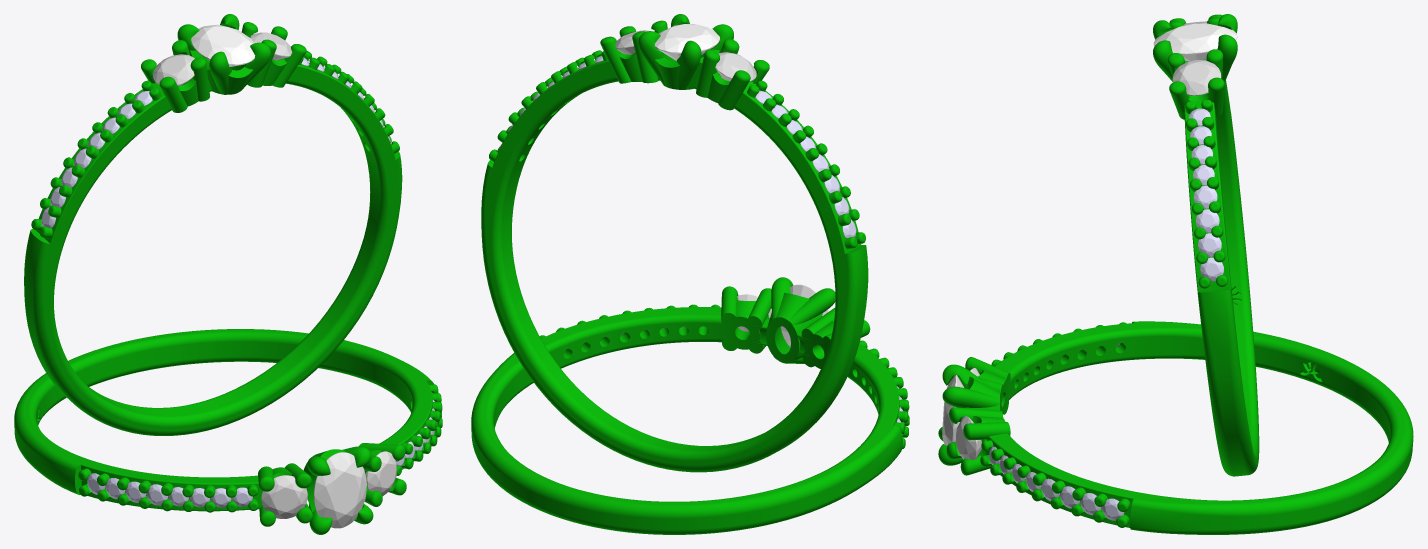
The picture shows the model from 3 angles, left to right: view 1: azimuth 30°, elevation 25°; view 2: azimuth 150°, elevation 25°; view 3: azimuth 270°, elevation 25°; orthographic projection. The views are drawn at different scales.
Visible parts, largest first — view 1: RNG-2508099_3D.3dm; view 2: RNG-2508099_3D.3dm; view 3: RNG-2508099_3D.3dm.
Part boxes in pixels (<box>): RNG-2508099_3D.3dm: <box>14,14,442,534</box>; RNG-2508099_3D.3dm: <box>471,14,909,534</box>; RNG-2508099_3D.3dm: <box>938,14,1413,534</box>.
Size of the model in its own units: 2.2 by 2.37 by 2.36.
